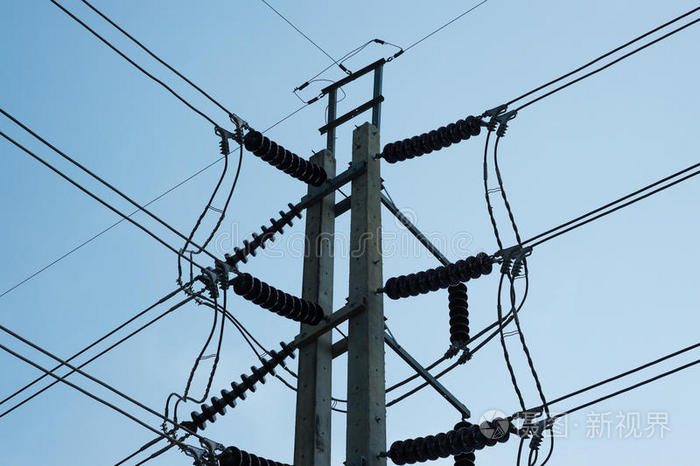insulator: (190, 339, 295, 427), (384, 417, 512, 466), (224, 200, 300, 268), (383, 254, 494, 299), (242, 129, 328, 186), (381, 116, 480, 163), (234, 272, 324, 321), (444, 282, 474, 346), (222, 446, 287, 466)
